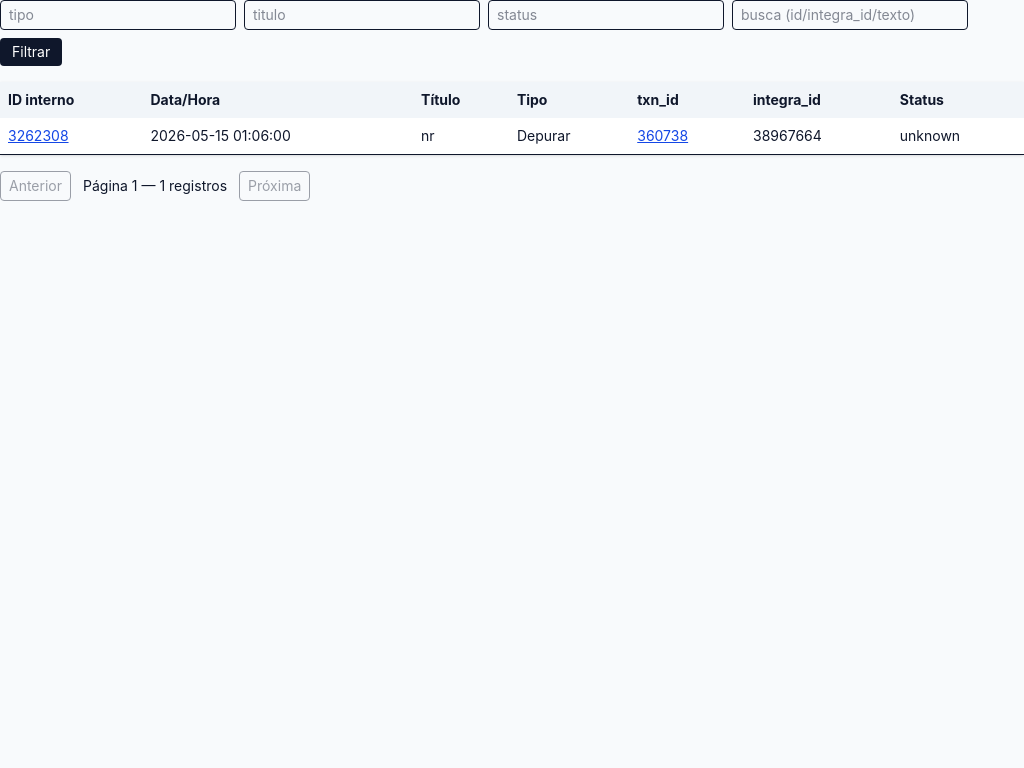
Test case: Requests › loads rows, links txn_id to the transaction trace, and opens the JSON drill-down from id_interno
The image size is (1024, 768).
Expected: the link "360738" is shown, x1=637 y1=127 x2=688 y2=144
// drill-down opens from the id_interno button, shows formatted payload
Click the button "3262308" at (38, 136), box x1=8 y1=126 x2=68 y2=146
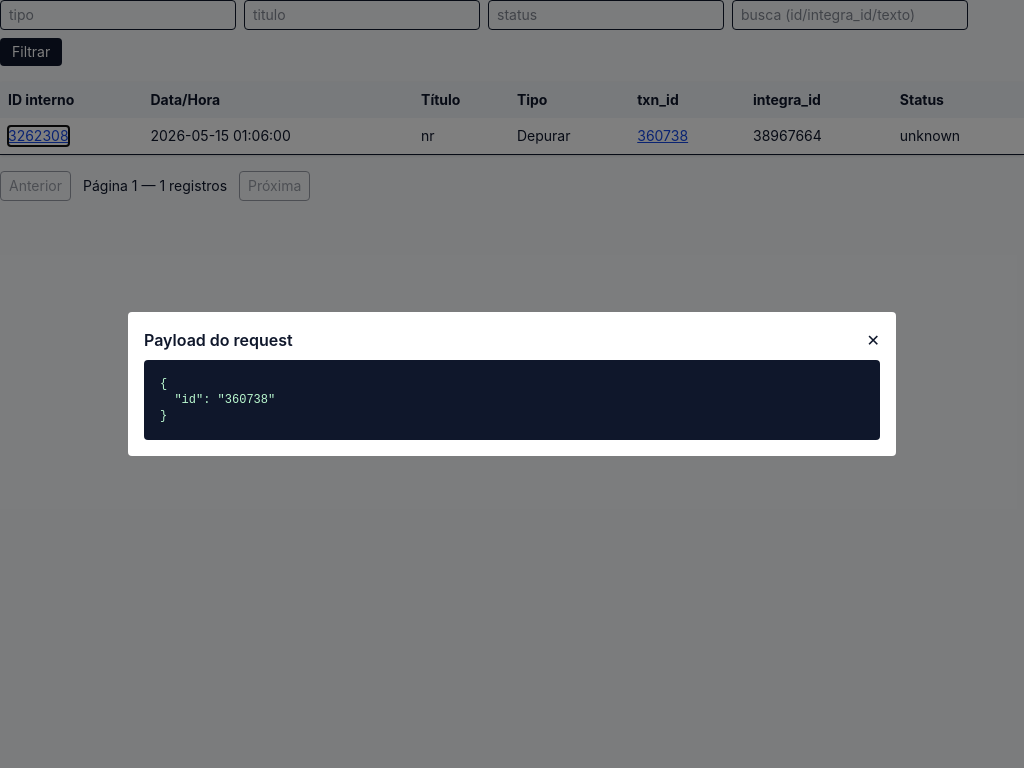
Expected: the text "{ \"id\": \"360738\" }" is shown, x1=144 y1=360 x2=880 y2=440
